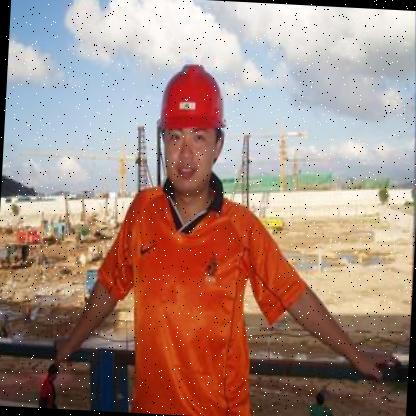capacete: (148, 56, 232, 141)
